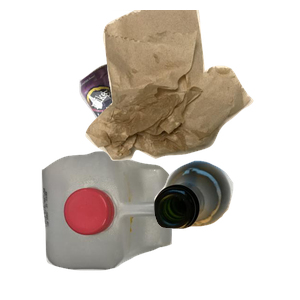glass: (151, 158, 300, 300)
metal: (77, 61, 222, 191)
plastic: (39, 149, 203, 300)
trash: (83, 10, 300, 163)
